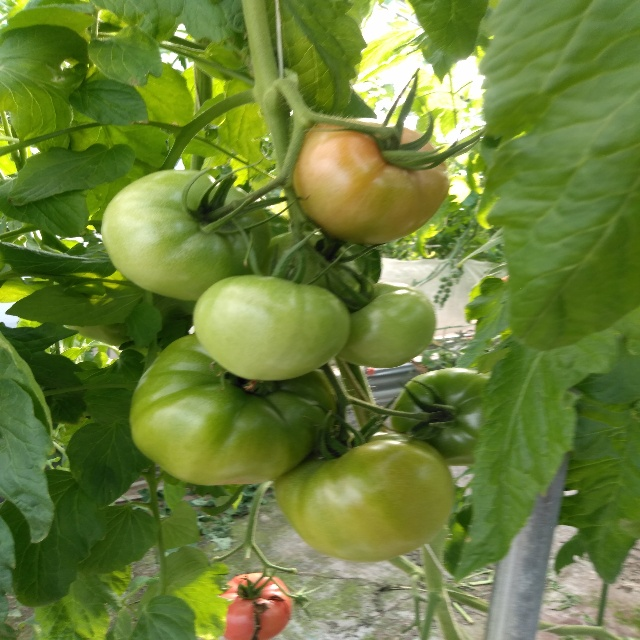b_fully_ripened: (217, 572, 292, 640)
b_green: (129, 333, 339, 486), (274, 429, 456, 562), (101, 170, 272, 302), (193, 274, 350, 381), (392, 367, 489, 467), (335, 282, 437, 368), (259, 231, 358, 299)
b_half_ripened: (290, 117, 449, 245)
